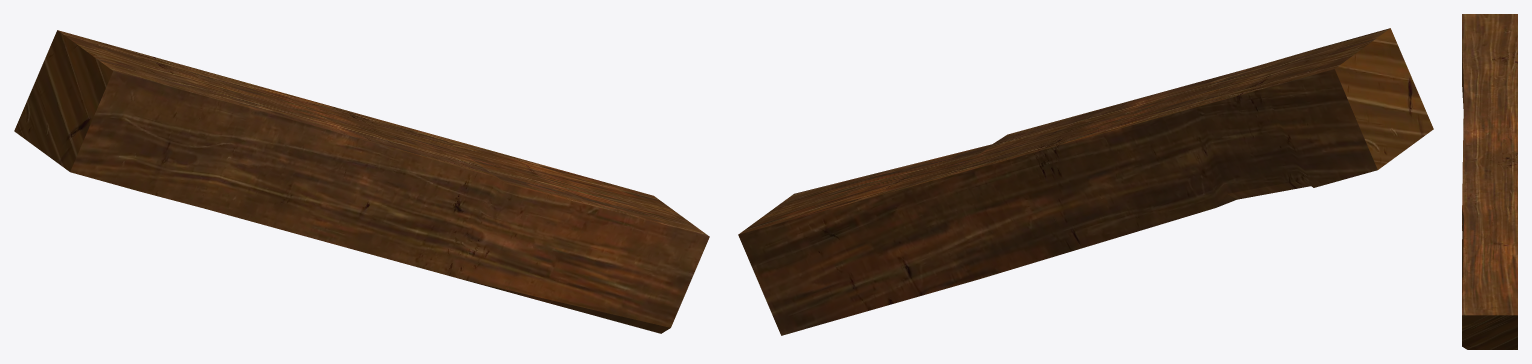
3 views of the same model, side by side, from view 1: azimuth 30°, elevation 25°; view 2: azimuth 150°, elevation 25°; view 3: azimuth 270°, elevation 25° (orthographic). The views are drawn at different scales.
Parts seen in each view (by area): view 1: SM_BB_T2_Beam_Thick_Large_Diagonal_LOD0; view 2: SM_BB_T2_Beam_Thick_Large_Diagonal_LOD0; view 3: SM_BB_T2_Beam_Thick_Large_Diagonal_LOD0.
Boxes of the visible parts, x1,y1,x2,y2 form: SM_BB_T2_Beam_Thick_Large_Diagonal_LOD0: [14, 30, 709, 333]; SM_BB_T2_Beam_Thick_Large_Diagonal_LOD0: [738, 28, 1433, 335]; SM_BB_T2_Beam_Thick_Large_Diagonal_LOD0: [1462, 14, 1517, 349].
Size of the model in its own units: 3.22 by 1.93 by 0.4873.
1 material, 1 textured.
